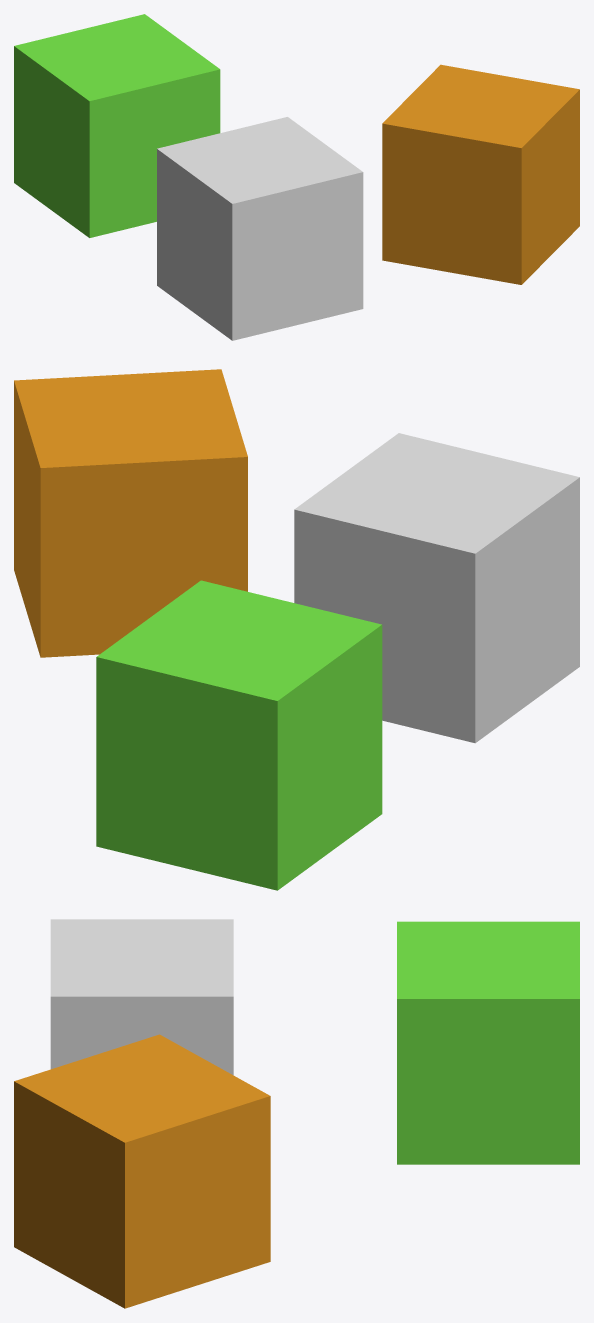
The model's file is 3_cubes.fbx.
The picture shows the model from 3 angles, top to bottom: view 1: azimuth 30°, elevation 25°; view 2: azimuth 150°, elevation 25°; view 3: azimuth 270°, elevation 25°; orthographic projection. The views are drawn at different scales.
Parts seen in each view (by area): view 1: Cube, Cube.002, Cube.001; view 2: Cube.001, Cube, Cube.002; view 3: Cube.002, Cube.001, Cube.
Boxes of the visible parts, x1,y1,x2,y2 form: Cube: [157, 117, 363, 340]; Cube.002: [382, 64, 579, 284]; Cube.001: [14, 14, 220, 237]; Cube.001: [96, 580, 382, 890]; Cube: [294, 433, 579, 743]; Cube.002: [14, 369, 247, 657]; Cube.002: [14, 1034, 270, 1308]; Cube.001: [397, 921, 579, 1164]; Cube: [50, 919, 233, 1075].
Size of the model in its own units: 578 by 203 by 618.
